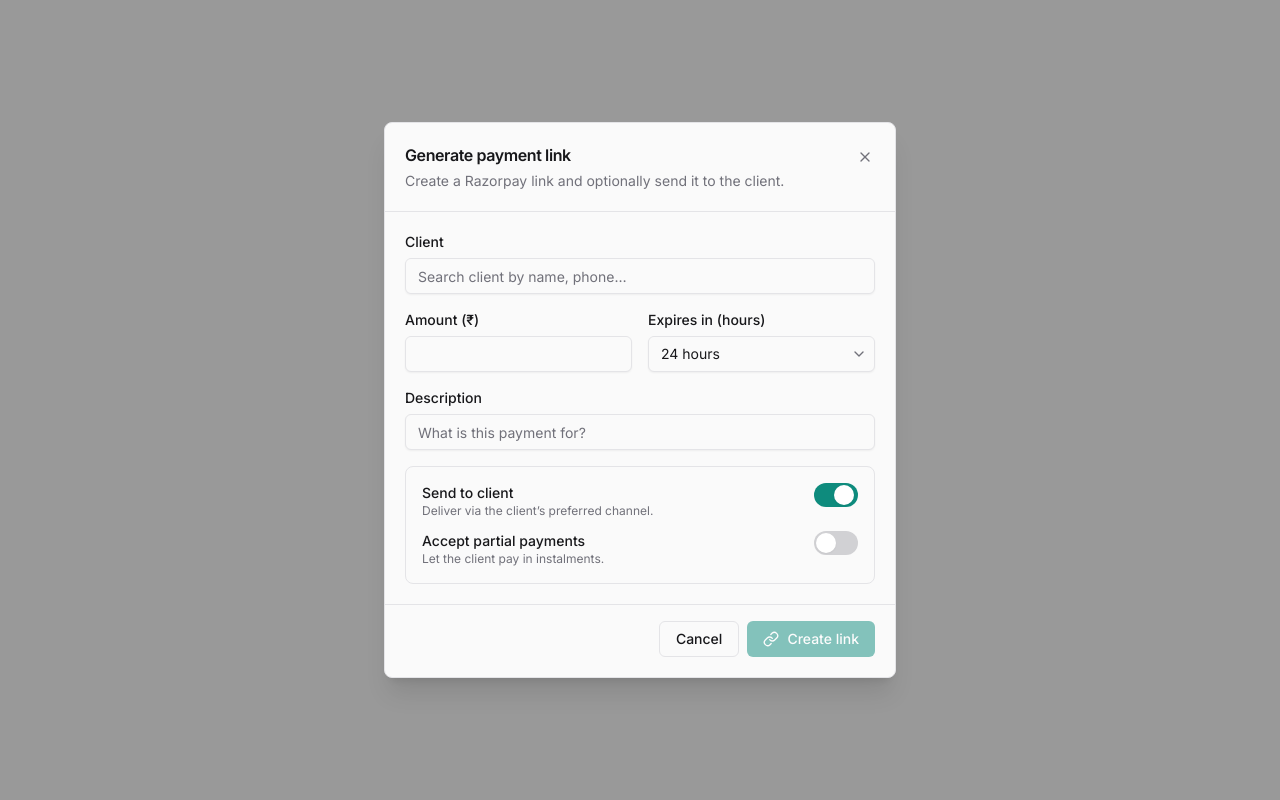
Test: CreatePaymentLinkModal › says so when the search matches no client
In the field with placeholder "Search client by name, phone…": (640, 276) top-left (405, 258), bottom-right (875, 294), type "zzz"
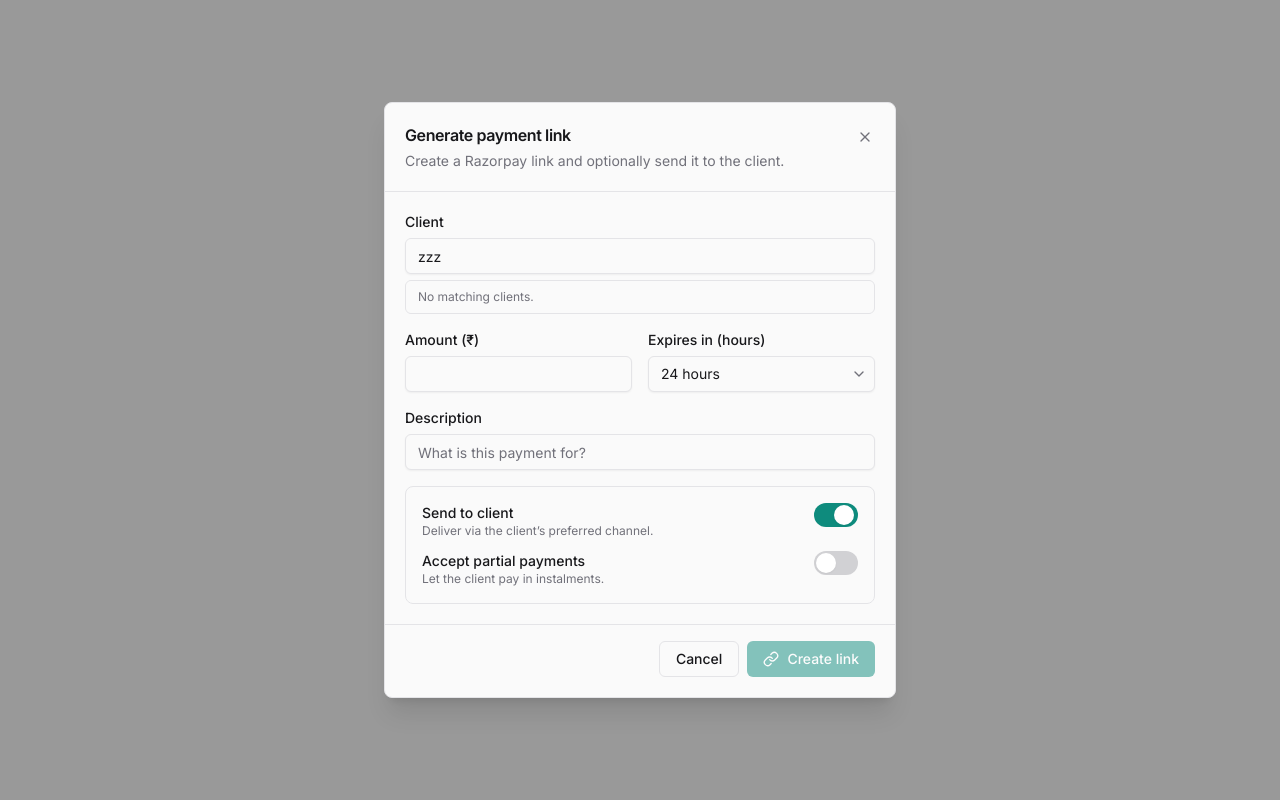
Result: the text "No matching clients." is shown at top-left (418, 289), bottom-right (534, 304)
